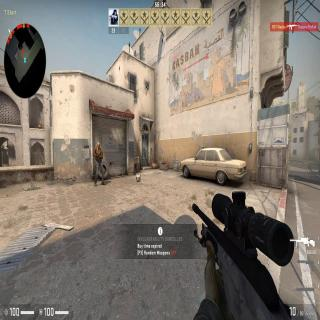T-Body: (92, 142, 106, 185)
T-Head: (96, 142, 100, 150)
